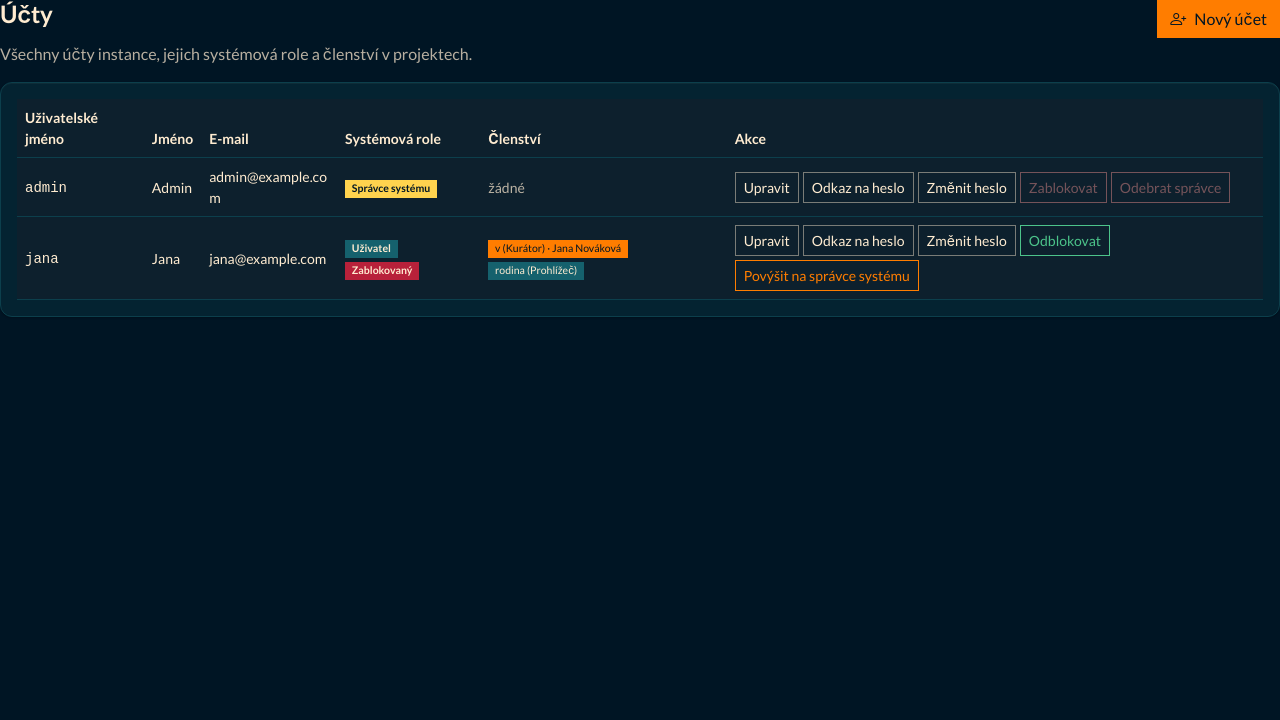
Test case: SystemUsersPage › promotes after the confirmation and redraws the row
The width and height of the screenshot is (1280, 720).
Expected: the text "jana" is shown, x1=25 y1=250 x2=59 y2=266
Step 1. Click the button "Povýšit na správce systému" → (827,276), box x1=735 y1=260 x2=919 y2=291
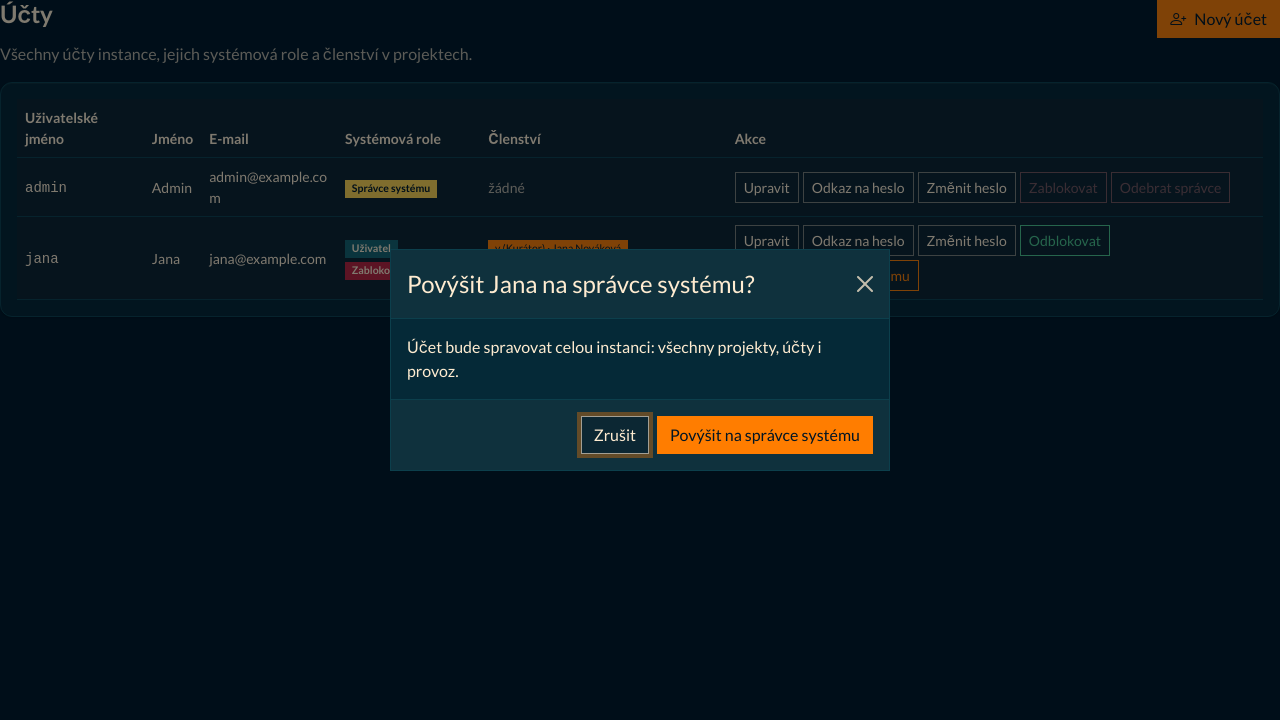
Expected: the text "Povýšit Jana na správce systému?" is shown, x1=407 y1=266 x2=754 y2=302
Step 2. Click the button "Povýšit na správce systému" → (765,435), box x1=657 y1=416 x2=873 y2=454
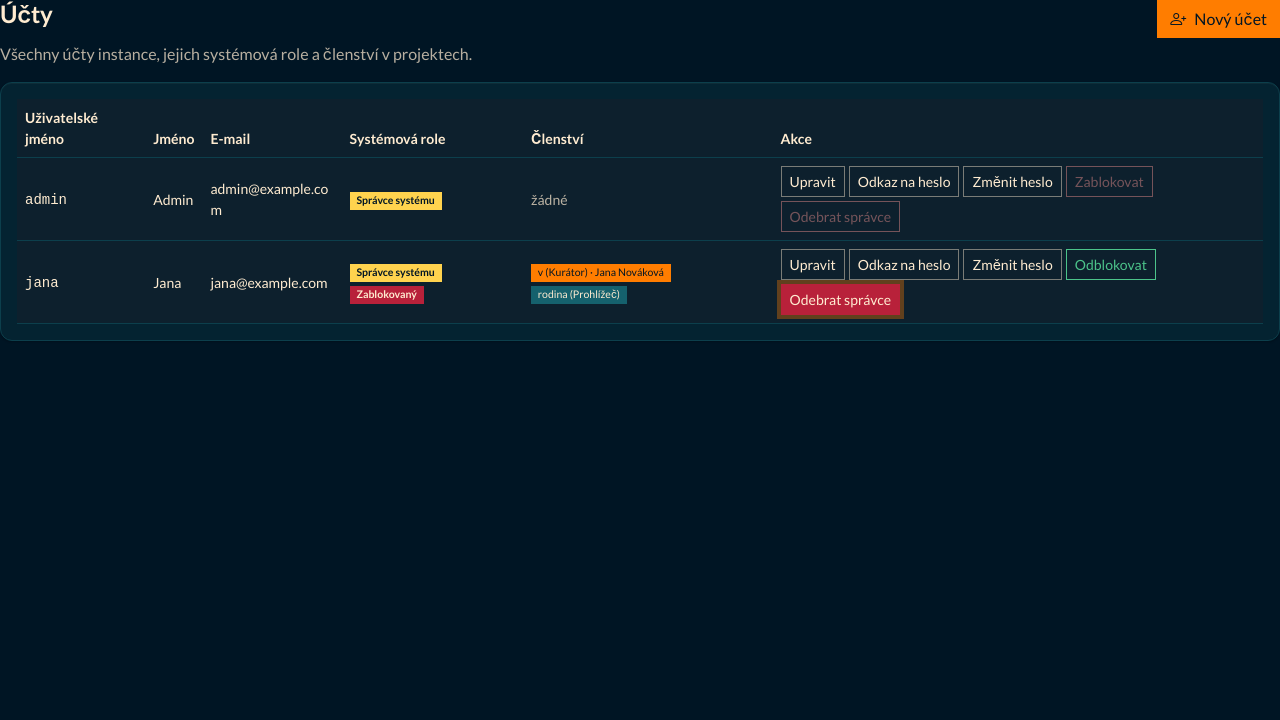
Expected: the button "Odebrat správce" in the row of "jana@example.com" is enabled, x1=780 y1=284 x2=900 y2=315
Expected: the text "Správce systému" next to "jana@example.com" is shown, x1=356 y1=266 x2=435 y2=278
